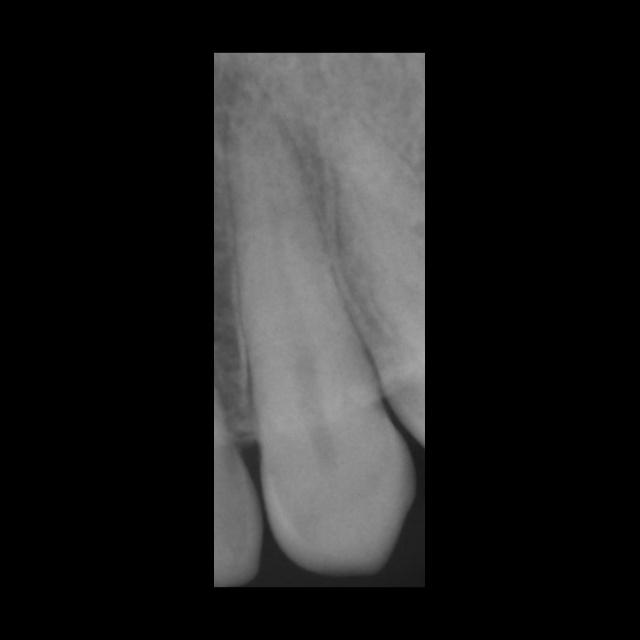tooth: (226, 74, 419, 578)
